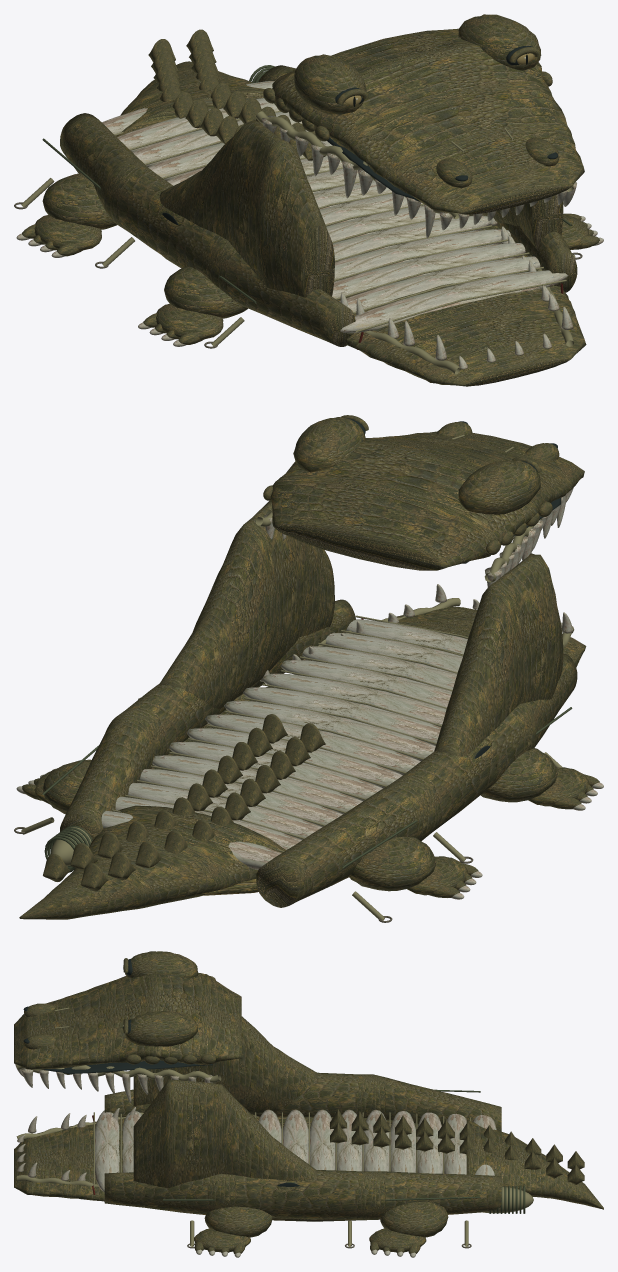
The model's file is night-crocodile-v3.glb.
3 views of the same model, one above another, from view 1: azimuth 30°, elevation 25°; view 2: azimuth 150°, elevation 25°; view 3: azimuth 270°, elevation 25° (orthographic). The views are drawn at different scales.
Visible parts, largest first — view 1: Body, UpperJaw; view 2: Body, UpperJaw; view 3: Body, UpperJaw.
Boxes of the visible parts, box(x1,y1,x2,y2) form: Body: box(14, 29, 603, 386); UpperJaw: box(256, 14, 584, 238); Body: box(14, 500, 603, 922); UpperJaw: box(256, 415, 584, 587); Body: box(14, 1016, 603, 1257); UpperJaw: box(14, 951, 241, 1103).
Bounding box in the file's own units: 6.38 × 3.79 × 10.1.
Materials: 11 (3 with a texture image).
